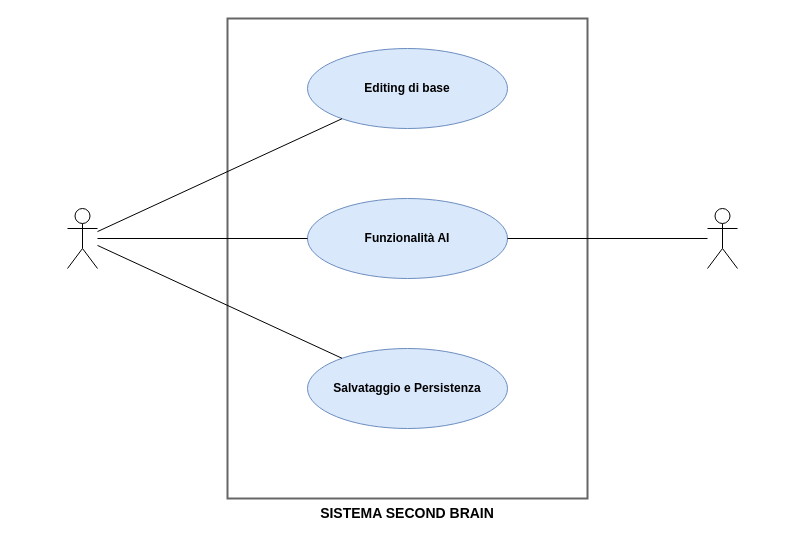
Image size: 810x545. Some labels were removed from this diagram. Here are the shapes that lost their labels. From the top down, the box of each, then its label:
(66, 208, 98, 268): Utente (ATTORE PRINCIPALE)
(706, 208, 738, 268): LLM (ATTORE SECONDARIO)
